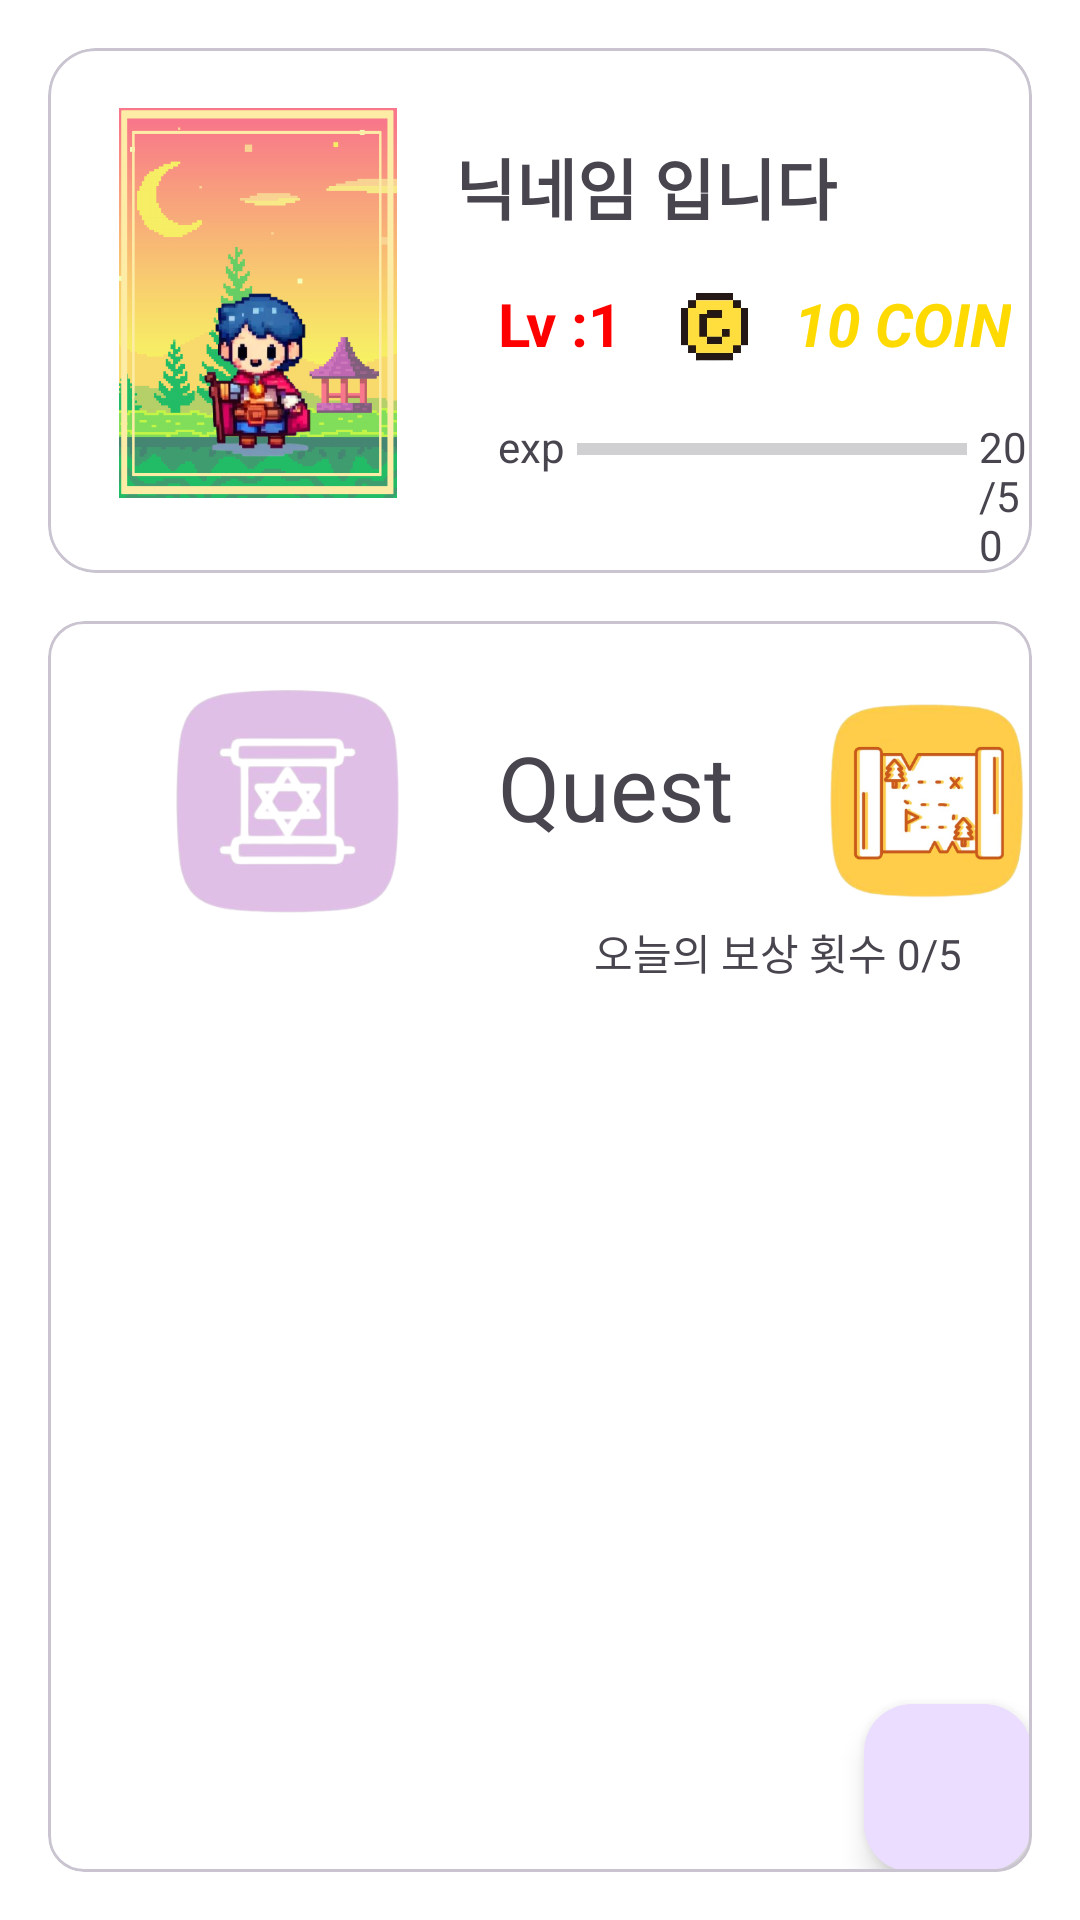

Named icons in this screenshot (1080x1920) and their centers, (x,y):
mapicon: (926,800)
